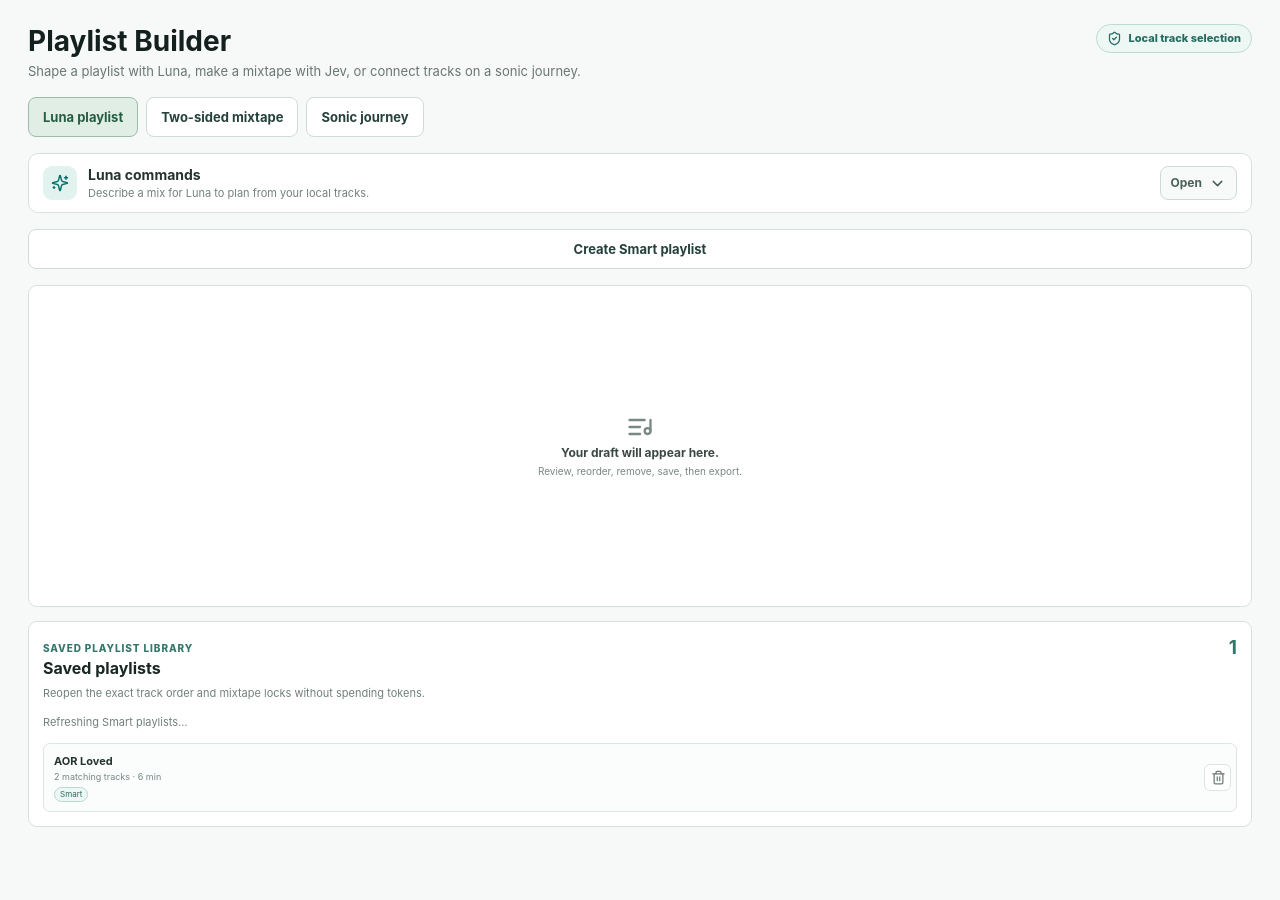
Test case: playlist builder workspace › does not restore a deleted playlist from a late background response
Click the button named "Delete AOR Loved" at (1218, 778), box [1204, 764, 1231, 791]
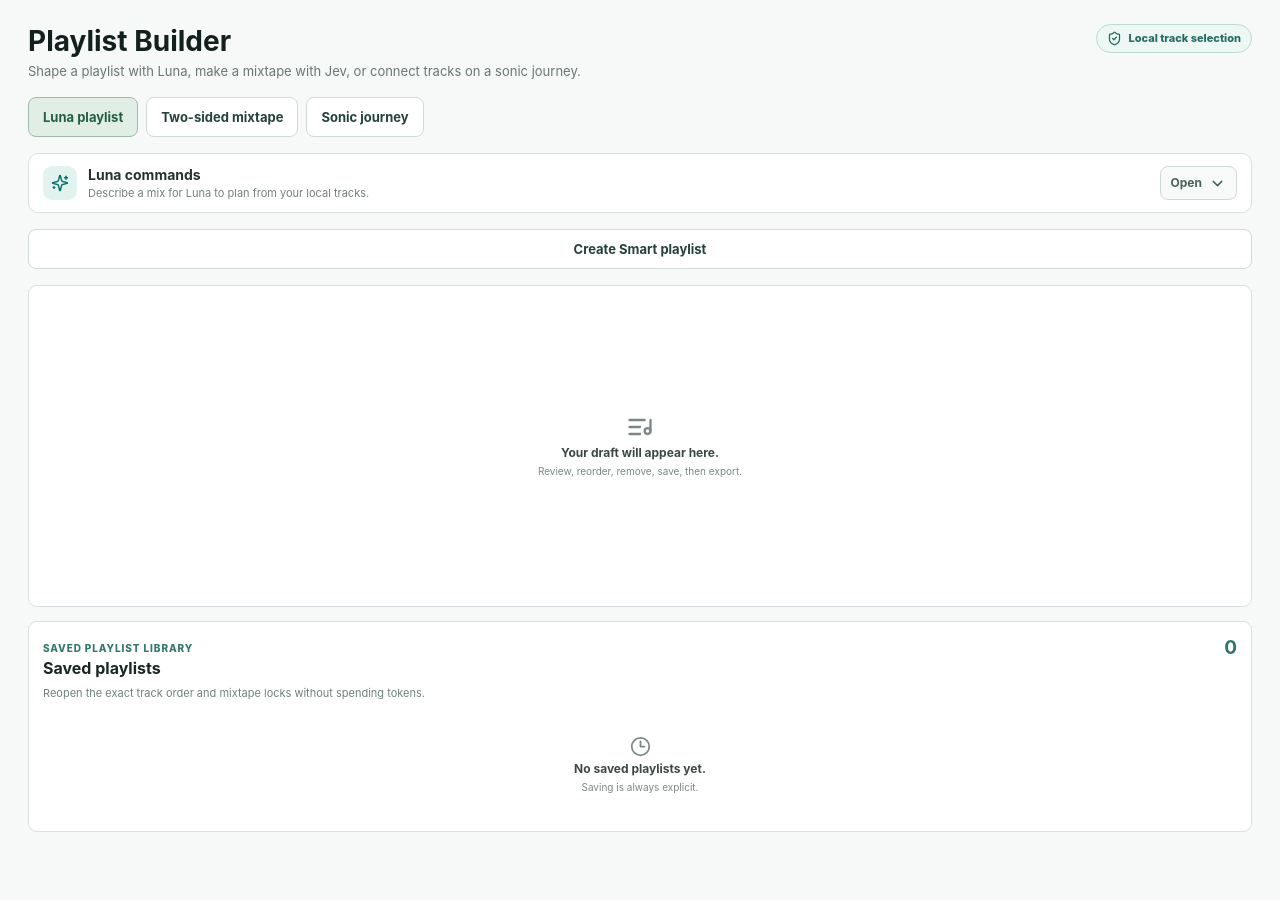
Expected: the text "No saved playlists yet." is shown, [574, 760, 706, 777]
Expected: the button "AOR Loved" is gone
